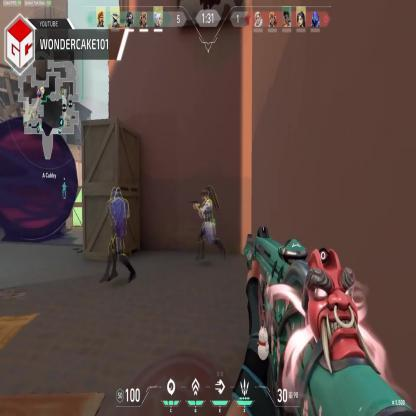enemy: (106, 182, 137, 284), (196, 184, 226, 264)
enemy_head: (115, 188, 122, 200), (203, 188, 209, 200)
